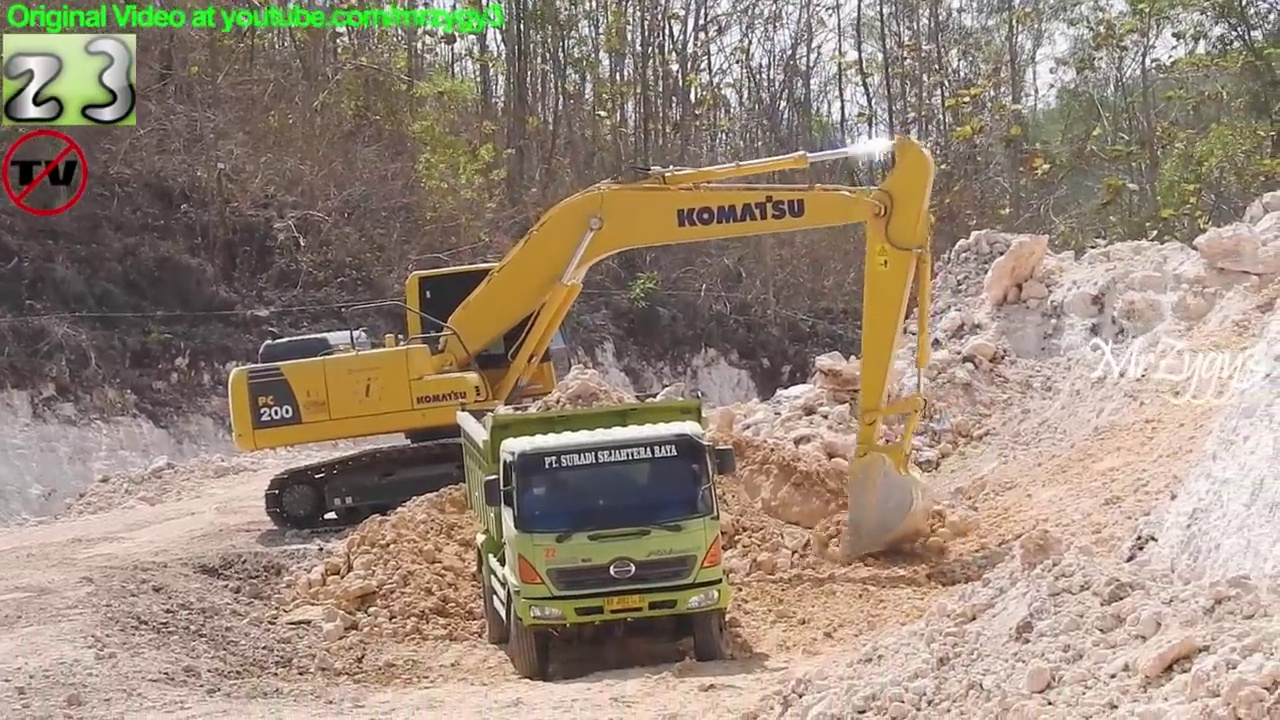excavator: (220, 131, 941, 568)
truck: (451, 385, 743, 679)
